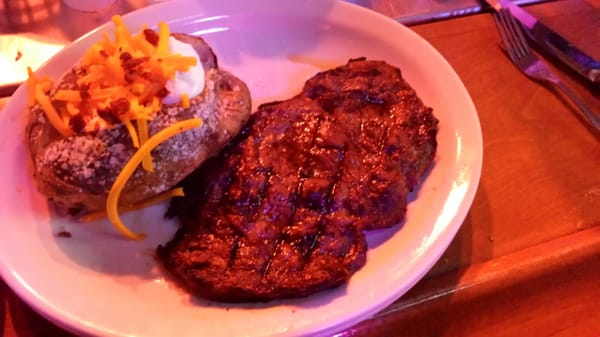burger: (488, 5, 600, 143)
sandwich: (497, 0, 600, 91)
